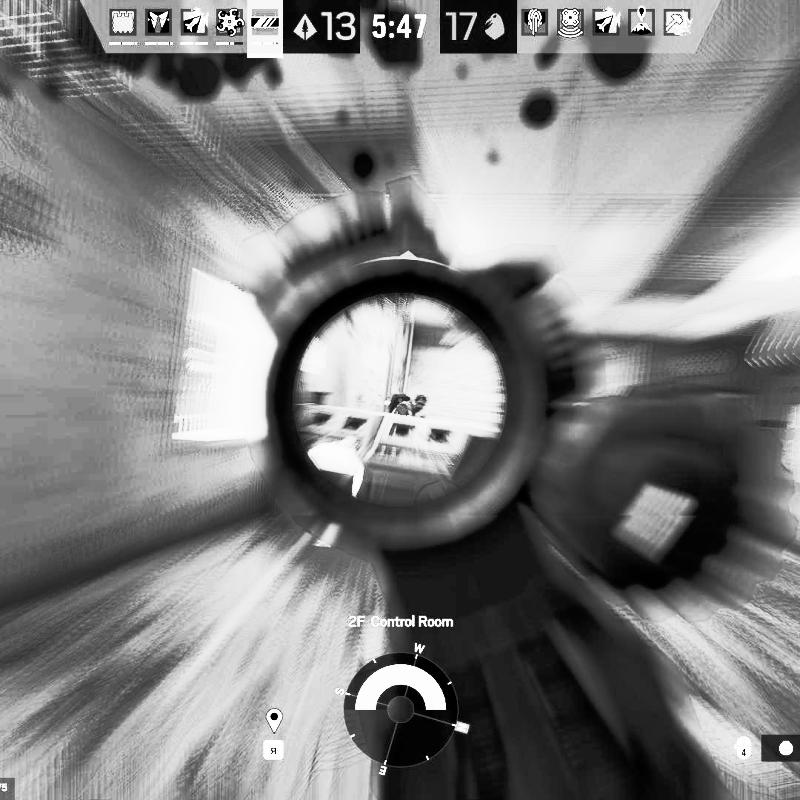Character: (387, 392, 429, 419)
Head: (414, 394, 428, 411)
